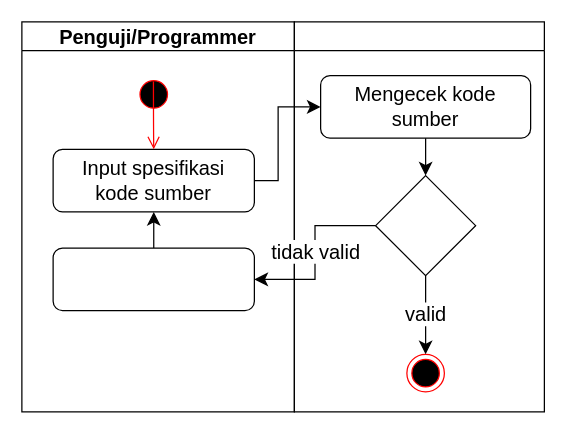
Image size: 566x434. Some labels were removed from this diagram. Here are the shapes that lost their labels. From the top down, the box of each, then its label:
(293, 21, 544, 412): Aplikasi
(52, 247, 254, 311): Pesan "kode sumber tidak valid"
